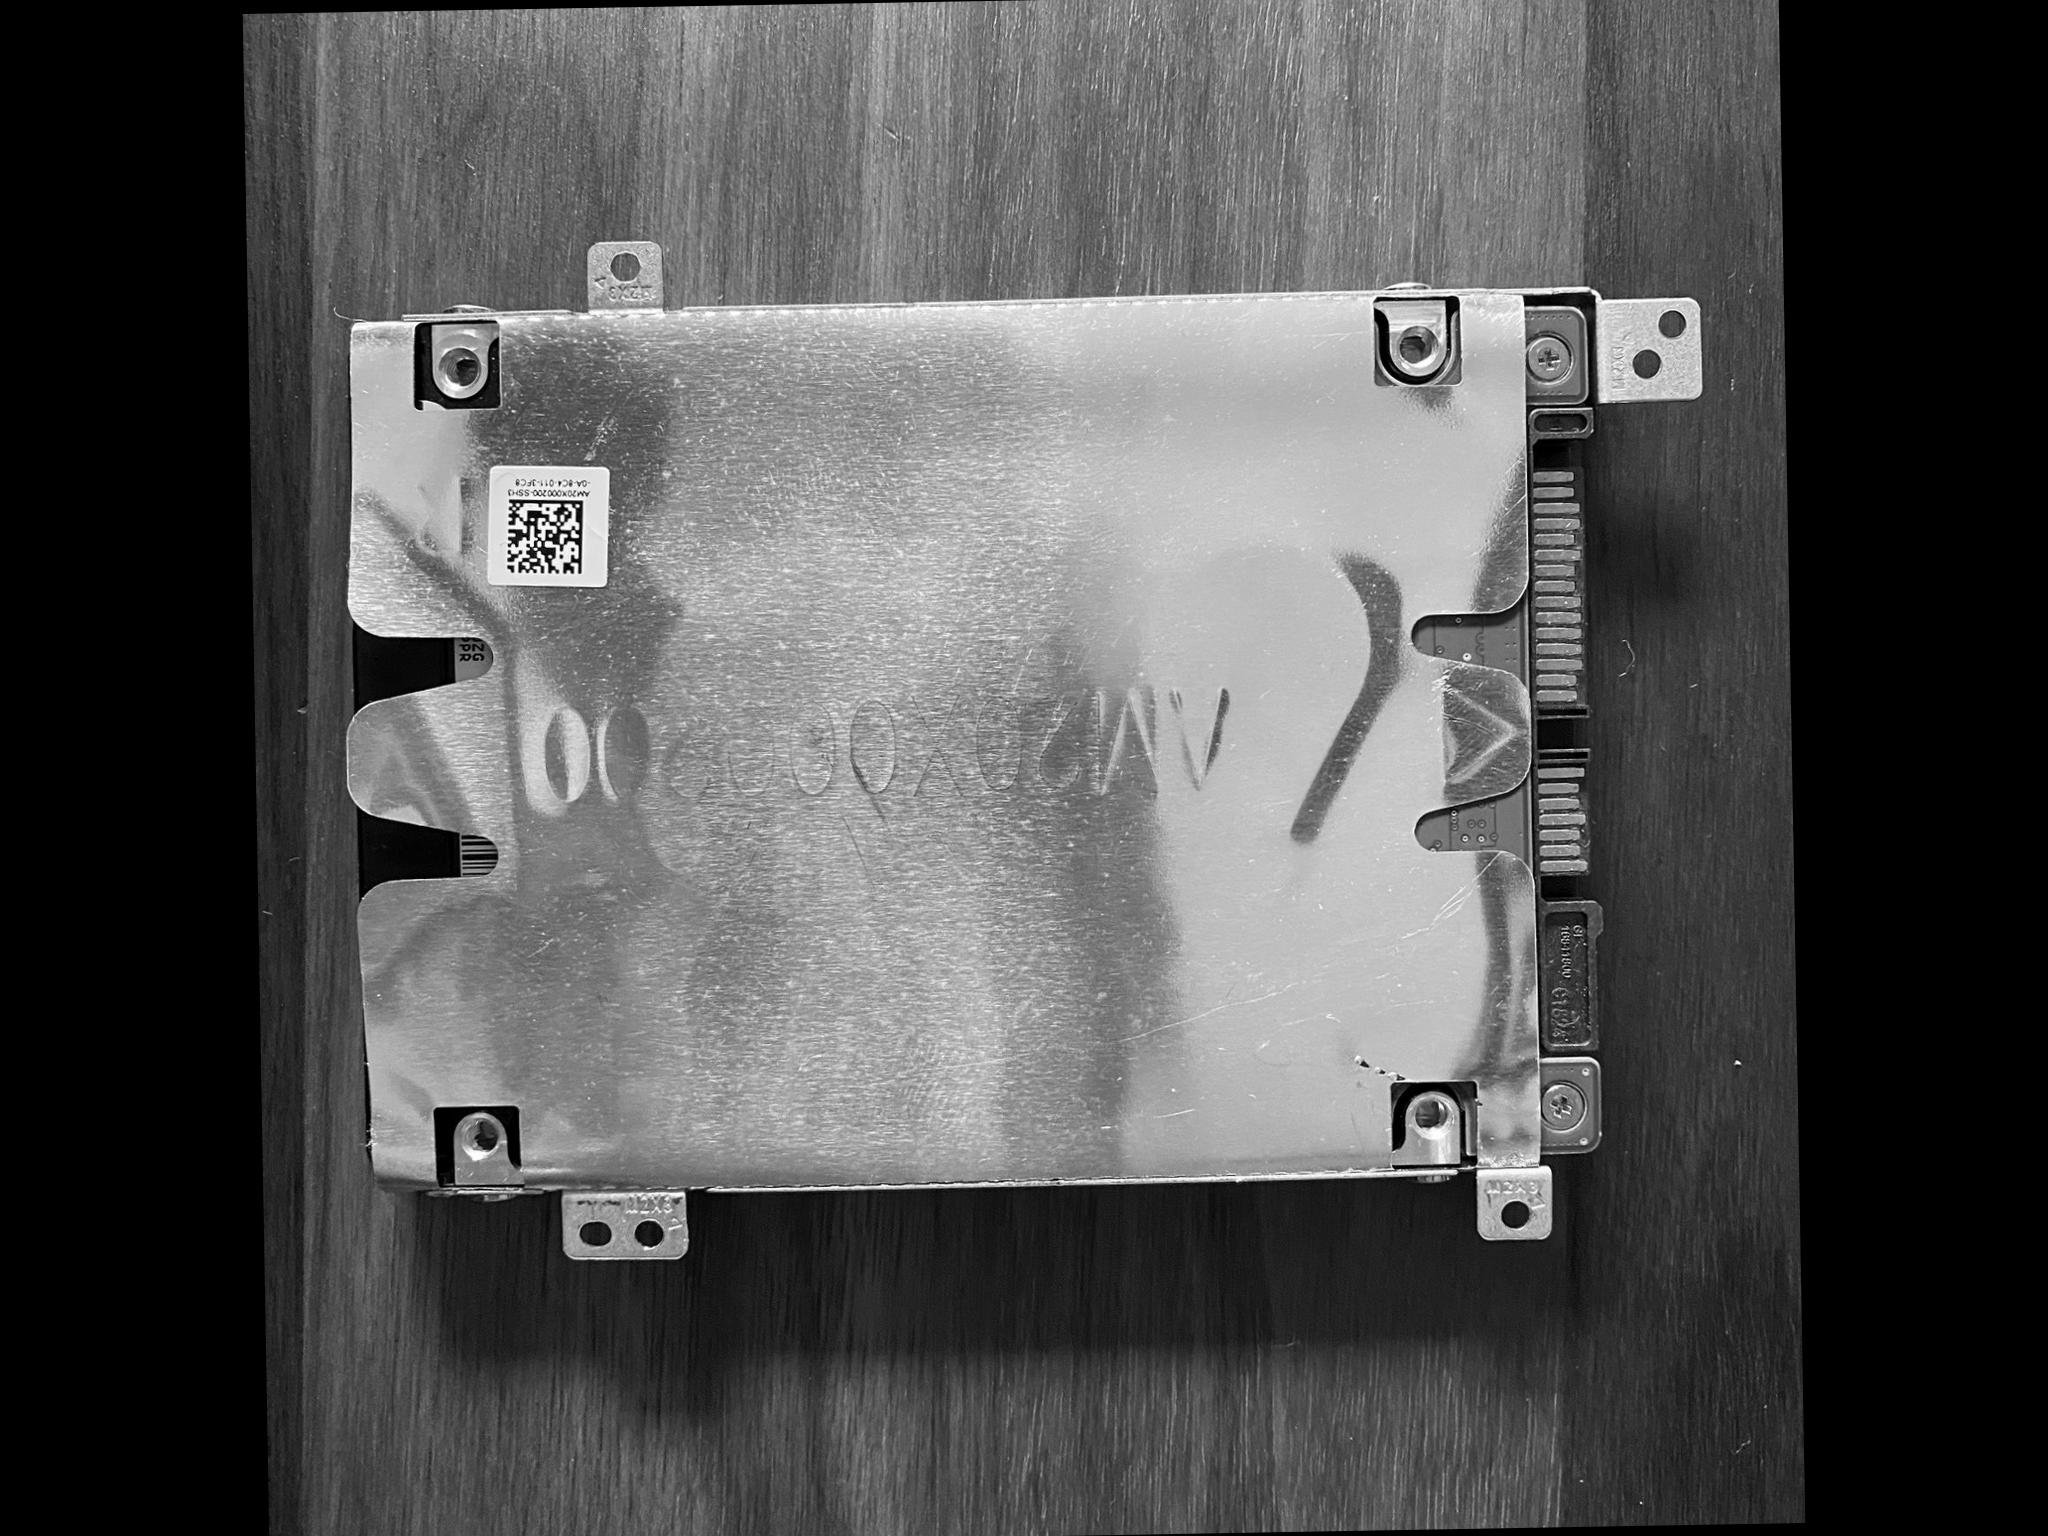PH: (1537, 1081, 1585, 1131), (1526, 334, 1571, 381)
